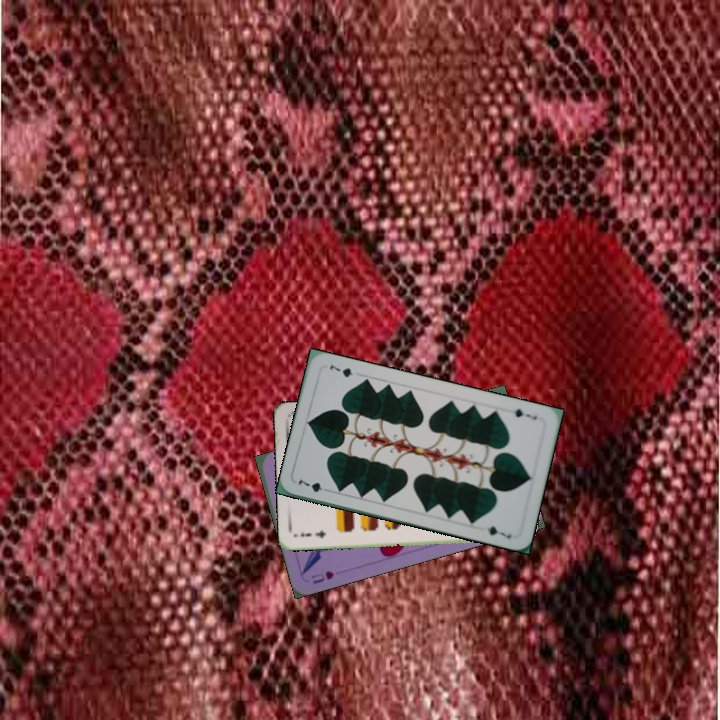E7: (297, 526, 328, 541)
G7: (294, 475, 333, 495), (505, 405, 539, 422)
HU: (307, 566, 337, 587)
